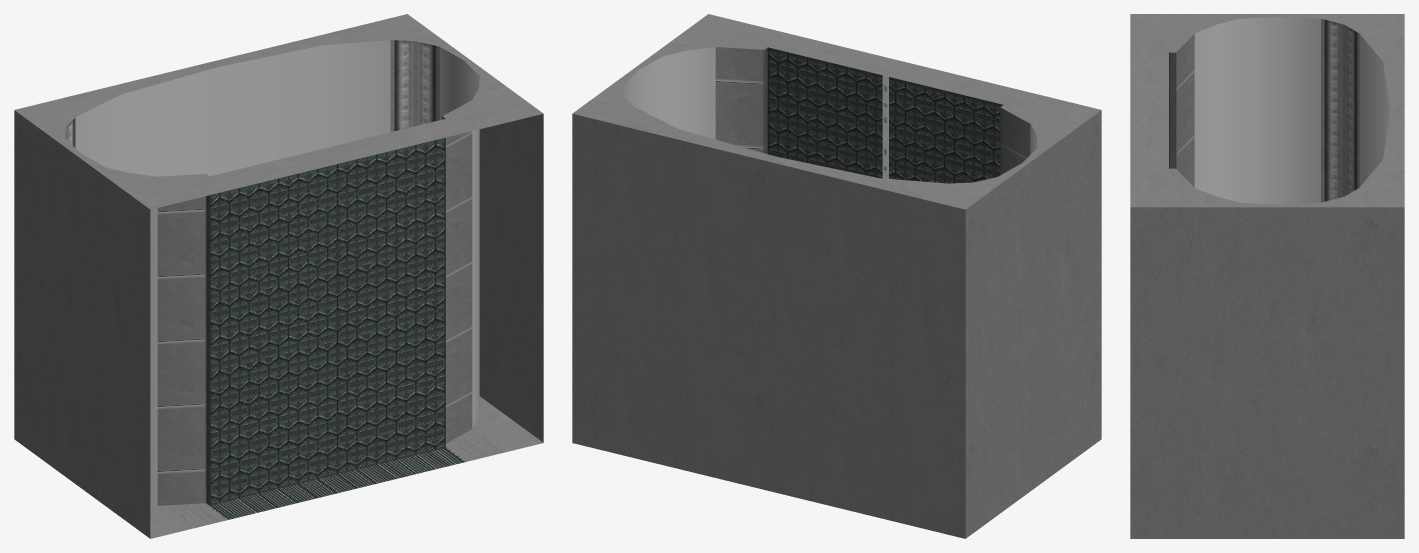
File: TC_city_tunnel_straight.fbx
3 views of the same model, side by side, from view 1: azimuth 30°, elevation 25°; view 2: azimuth 150°, elevation 25°; view 3: azimuth 270°, elevation 25° (orthographic).
Parts seen in each view (by area): view 1: TC_city_tunnel_straight; view 2: TC_city_tunnel_straight, light_018; view 3: TC_city_tunnel_straight.
Boxes of the visible parts, x1,y1,x2,y2 form: TC_city_tunnel_straight: (14,14,543,538); TC_city_tunnel_straight: (572,14,1101,538); light_018: (882,75,888,178); TC_city_tunnel_straight: (1130,14,1404,538).
Bounding box in the file's own units: 10 × 8 × 6.
